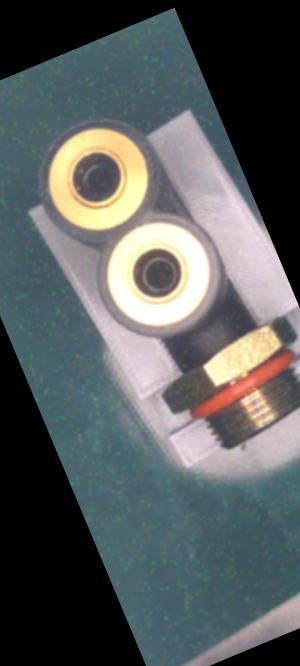white mark: (208, 340, 222, 355)
